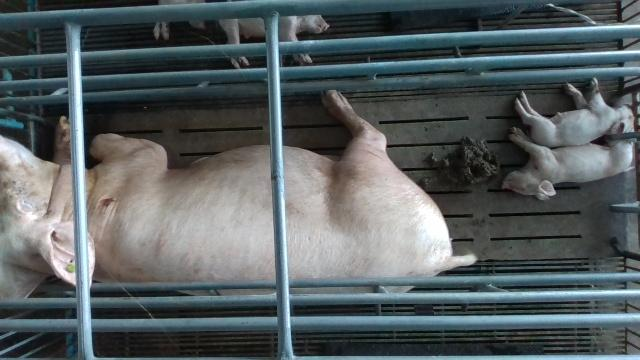piglet: (499, 125, 634, 202), (515, 75, 635, 146), (219, 15, 330, 69), (154, 0, 208, 39)
sow-sleep: (0, 88, 478, 298)
